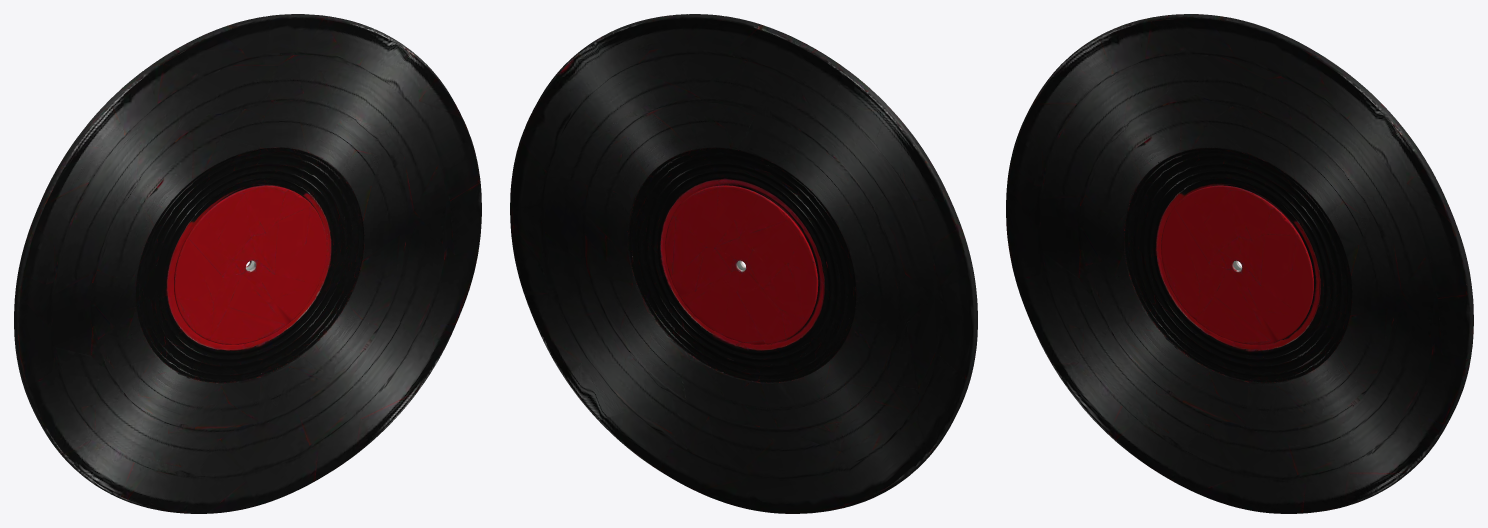
The model's file is vinyl.glb.
3 renders of one model, left to right at view 1: azimuth 30°, elevation 25°; view 2: azimuth 150°, elevation 25°; view 3: azimuth 330°, elevation 25°, orthographic.
Visible parts, largest first — view 1: Mesh_0; view 2: Mesh_0; view 3: Mesh_0.
Part boxes in pixels (<box>): Mesh_0: <box>14,14,481,513</box>; Mesh_0: <box>510,14,977,513</box>; Mesh_0: <box>1006,14,1473,513</box>.
Size of the model in its own units: 1 by 0.9982 by 0.0222.
1 material, 1 textured.
